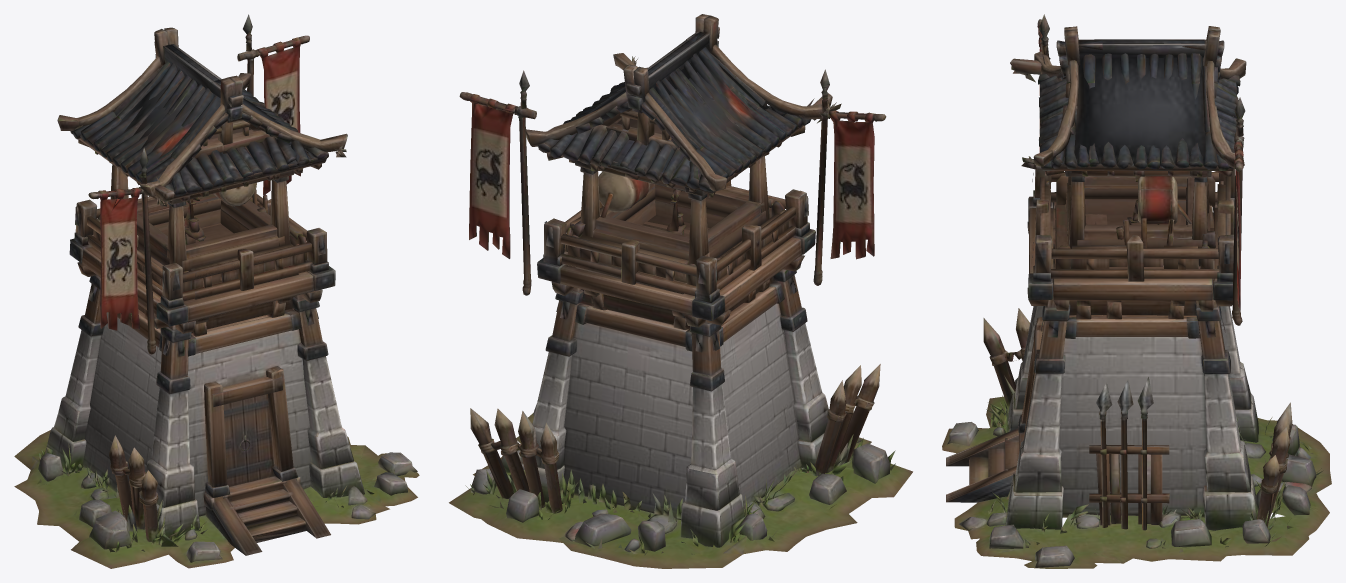
The model's file is loft.glb.
3 views of the same model, side by side, from view 1: azimuth 30°, elevation 25°; view 2: azimuth 150°, elevation 25°; view 3: azimuth 270°, elevation 25° (orthographic). The views are drawn at different scales.
Size of the model in its own units: 0.8003 by 0.9526 by 0.7437.
1 material, 1 textured.
